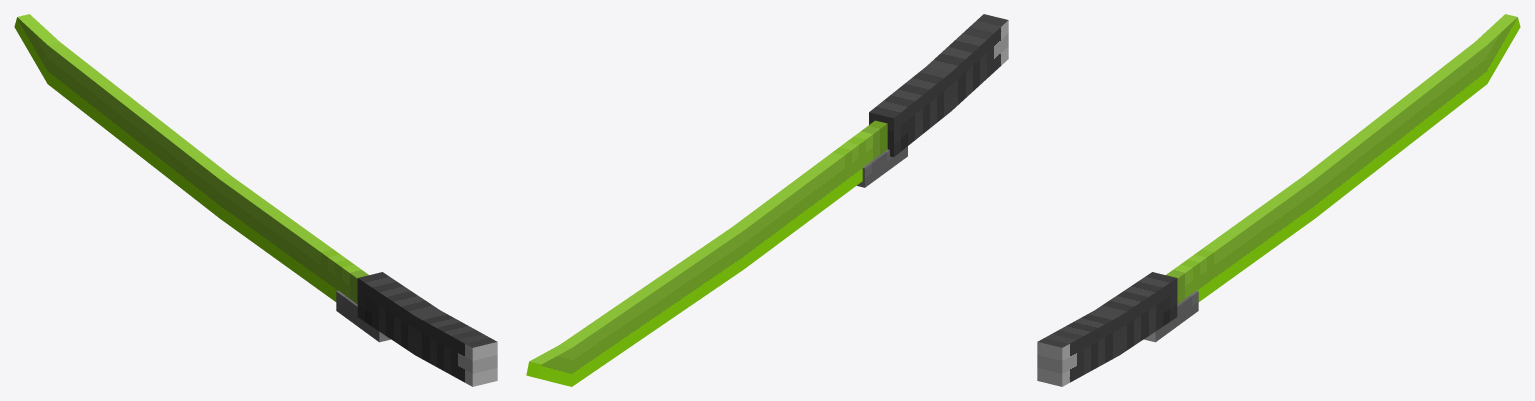
File: fulgur.fbx
3 views of the same model, side by side, from view 1: azimuth 30°, elevation 25°; view 2: azimuth 150°, elevation 25°; view 3: azimuth 330°, elevation 25° (orthographic).
Visible parts, largest first — view 1: cube_2, cube, cube_1; view 2: cube_2, cube, cube_1; view 3: cube_2, cube, cube_1.
Boxes of the visible parts, x1,y1,x2,y2 form: cube_2: [14, 14, 379, 332]; cube: [357, 272, 497, 386]; cube_1: [336, 290, 390, 342]; cube_2: [526, 120, 887, 386]; cube: [869, 14, 1008, 157]; cube_1: [857, 146, 907, 187]; cube_2: [1155, 14, 1520, 332]; cube: [1037, 272, 1177, 386]; cube_1: [1144, 290, 1198, 342].
Bounding box in the file's own units: 12.5 × 31.87 × 404.
1 material, 1 textured.
